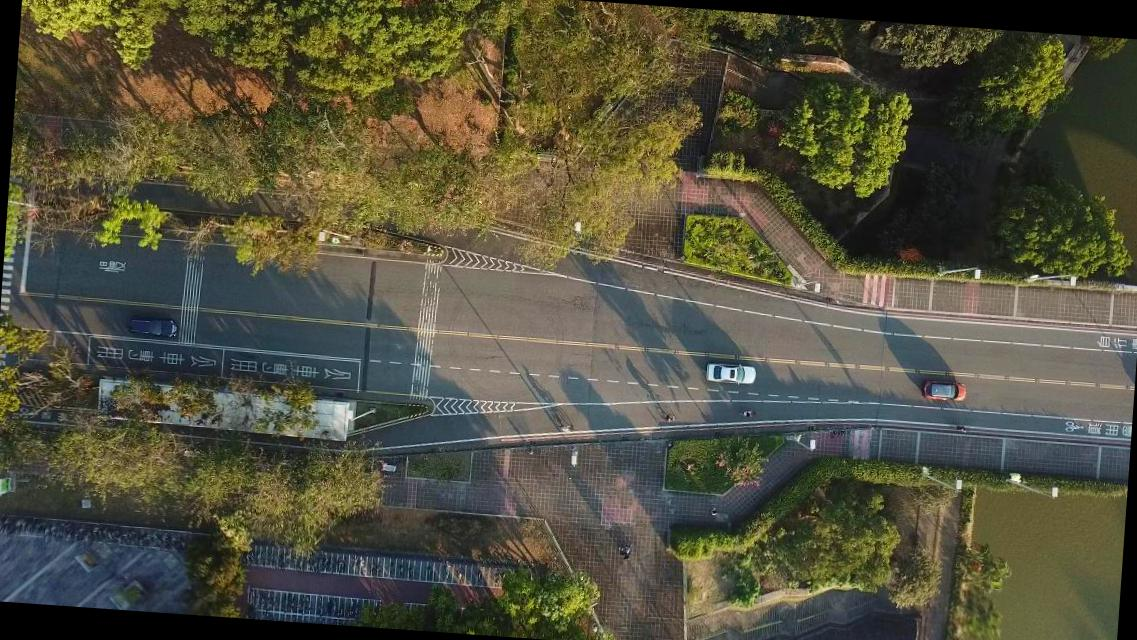vehicle: (703, 360, 756, 386), (920, 379, 966, 403), (128, 316, 177, 338)
